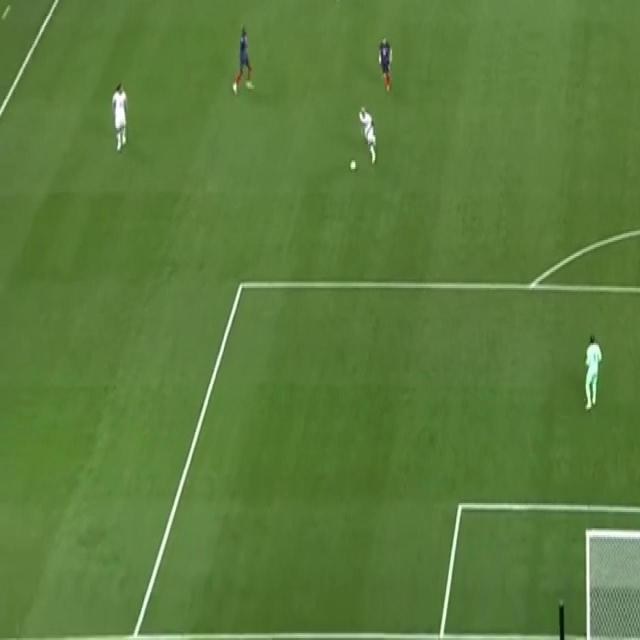ball: (350, 157, 356, 172)
player-white: (583, 332, 604, 418), (231, 24, 255, 98), (110, 80, 129, 154), (357, 106, 377, 166), (378, 36, 393, 94), (329, 0, 344, 2)
